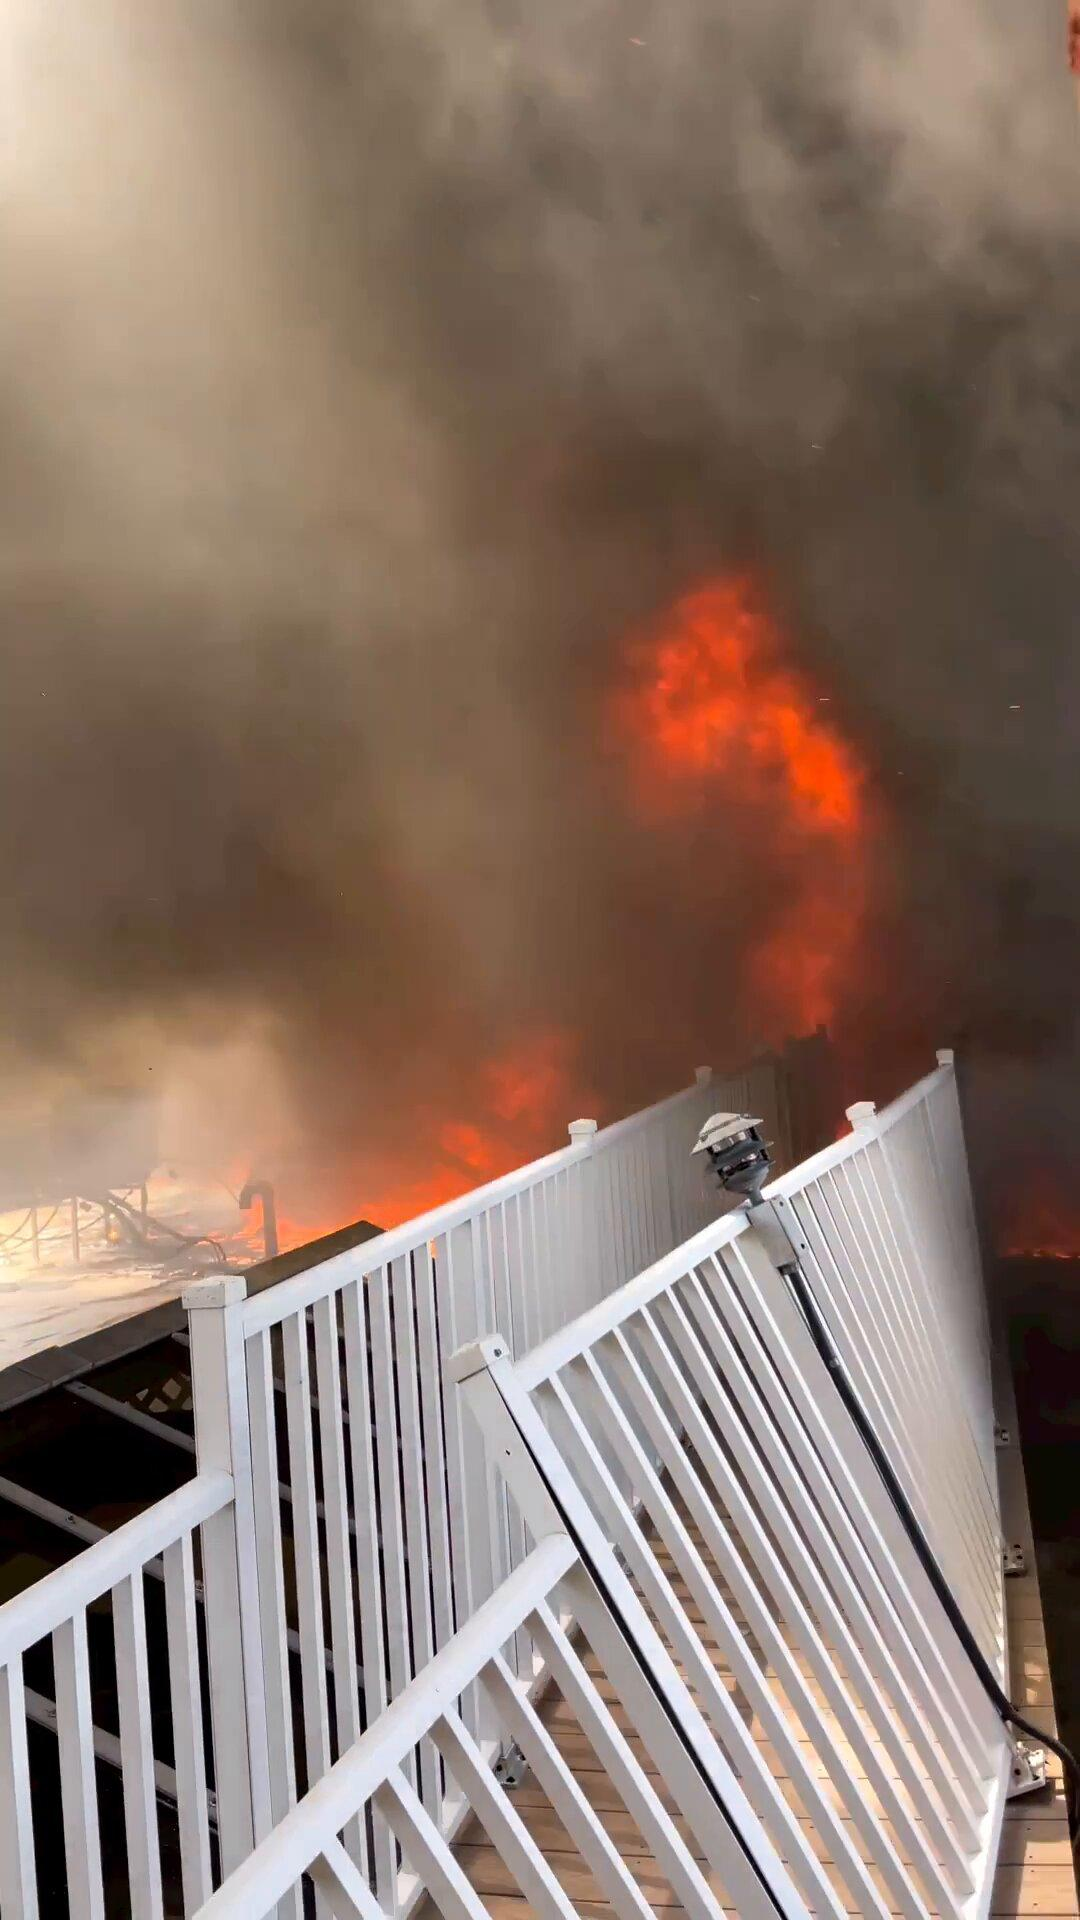smoke: (76, 404, 524, 1110), (680, 166, 1000, 580)
